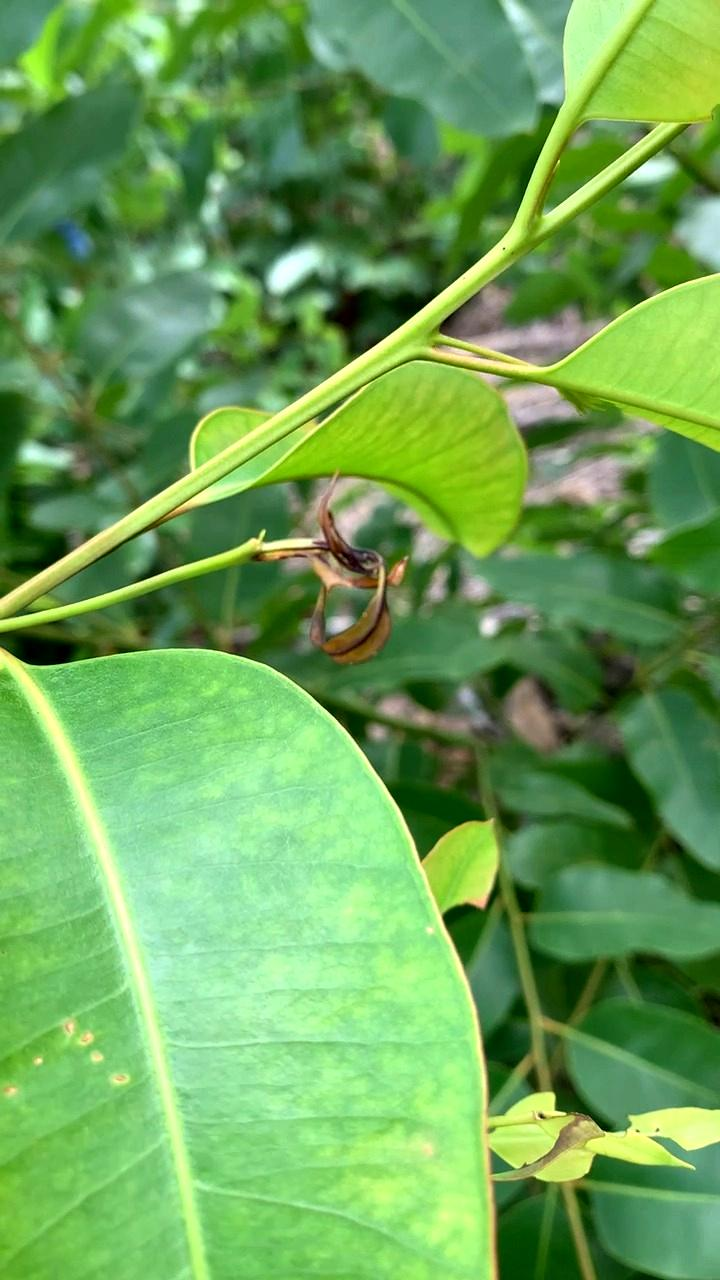Helopeltis-Withered Sprout: (283, 458, 427, 663)
